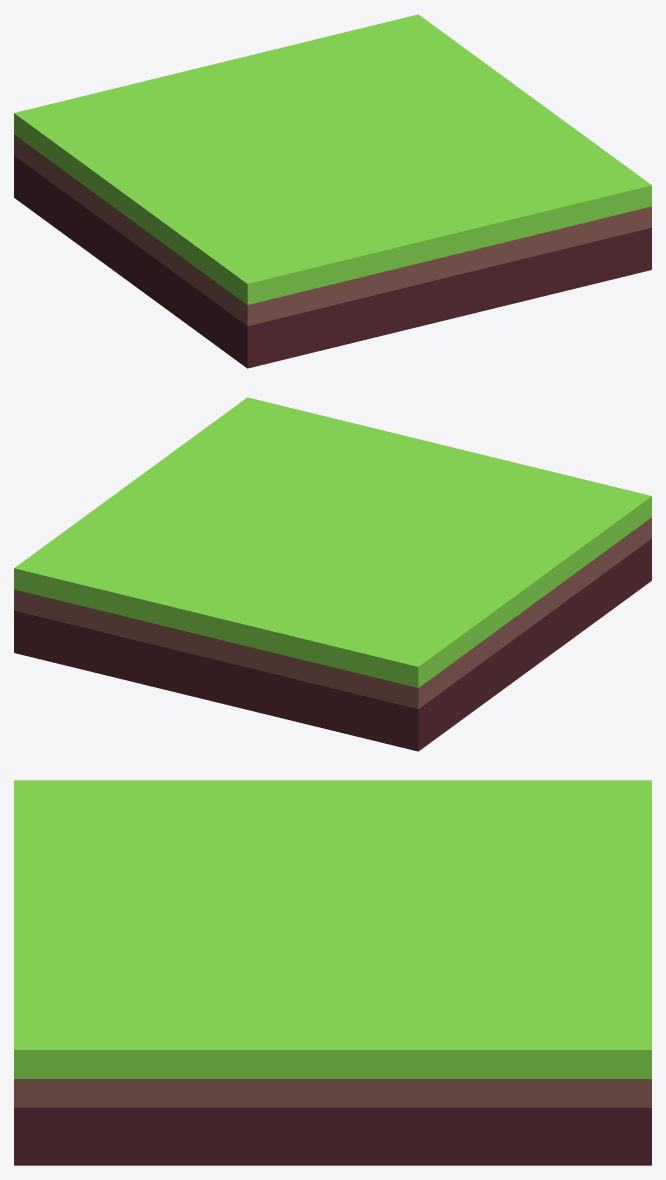
File: flat base.glb
3 views of the same model, one above another, from view 1: azimuth 30°, elevation 25°; view 2: azimuth 150°, elevation 25°; view 3: azimuth 270°, elevation 25° (orthographic). The views are drawn at different scales.
Visible parts, largest first — view 1: base tile grass; view 2: base tile grass; view 3: base tile grass.
Part boxes in pixels (<box>): base tile grass: <box>14,14,651,368</box>; base tile grass: <box>14,397,651,751</box>; base tile grass: <box>14,780,651,1165</box>.
Bounding box in the file's own units: 2 × 0.4 × 2.
